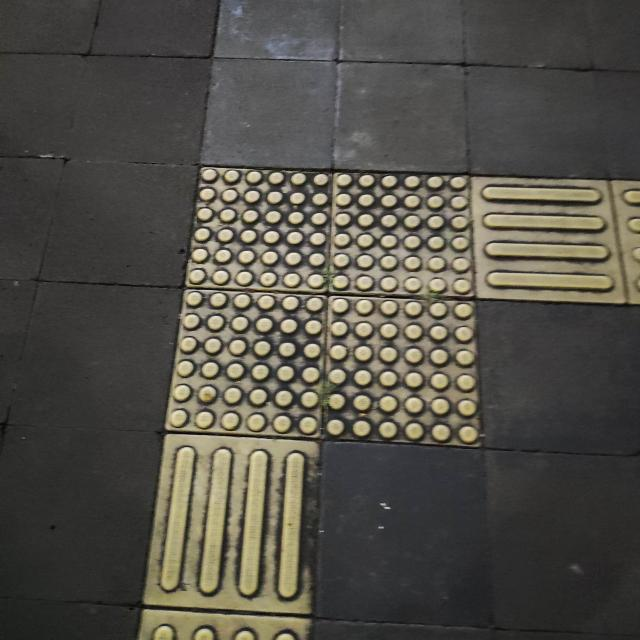kanan: (96, 107, 640, 612)
